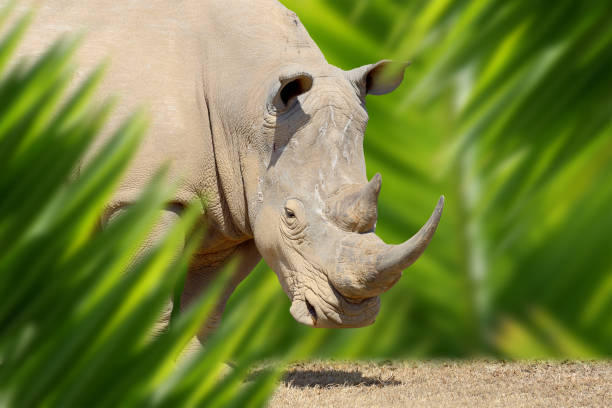rhino: (233, 40, 478, 356)
